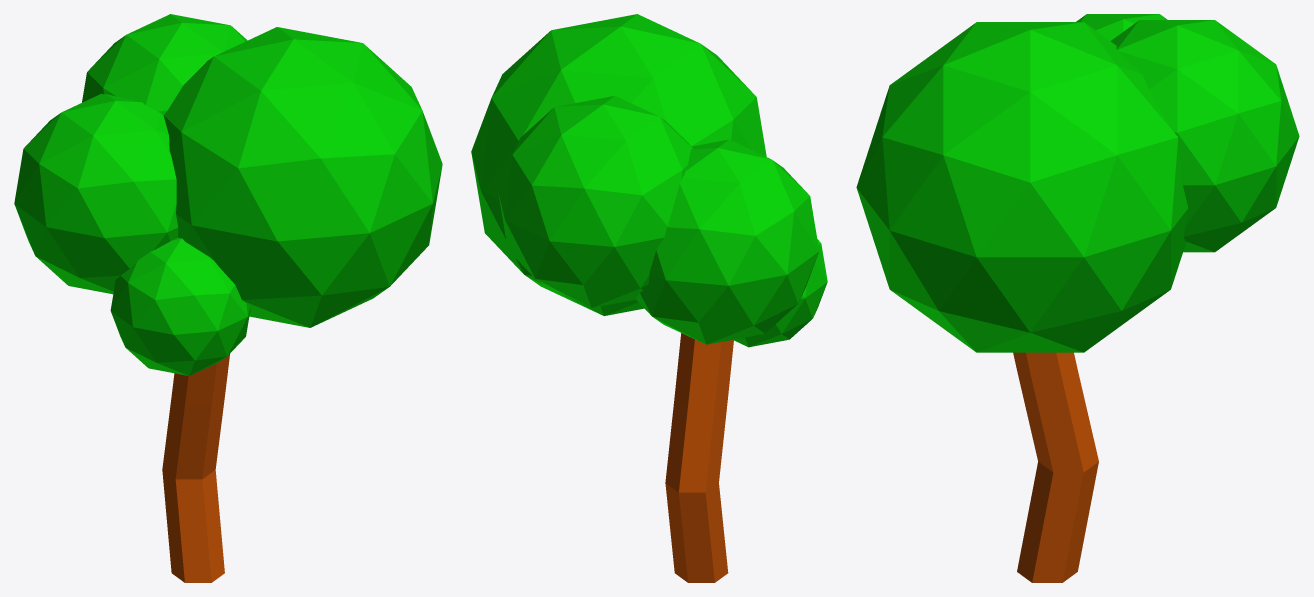
Rendered from tree.fbx.
The picture shows the model from 3 angles, left to right: view 1: azimuth 30°, elevation 25°; view 2: azimuth 150°, elevation 25°; view 3: azimuth 270°, elevation 25°; orthographic projection. The views are drawn at different scales.
Visible parts, largest first — view 1: Cylinder; view 2: Cylinder; view 3: Cylinder.
Part boxes in pixels (x1,y1,x2,y2): Cylinder: (14, 14, 442, 582); Cylinder: (471, 14, 827, 582); Cylinder: (856, 14, 1299, 582).
Size of the model in its own units: 217 by 308 by 209.
